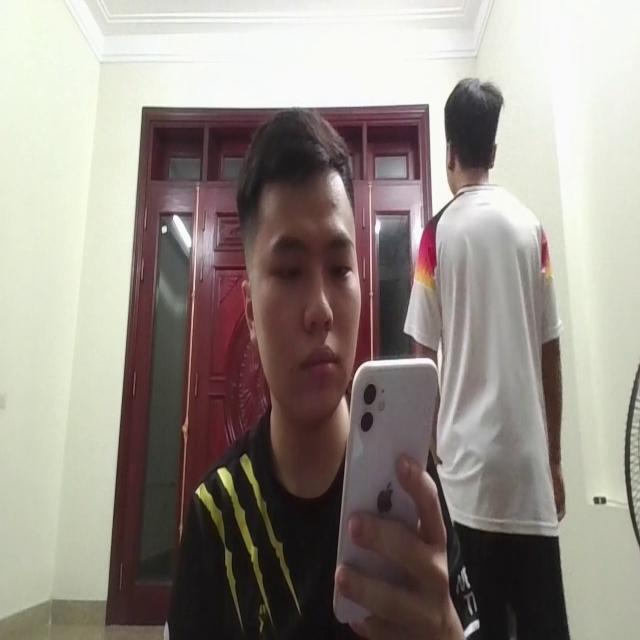extra_person: (415, 58, 569, 589)
phone: (330, 336, 437, 632)
student: (168, 104, 466, 640)
